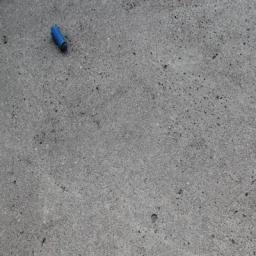FOD: (47, 20, 74, 55)
